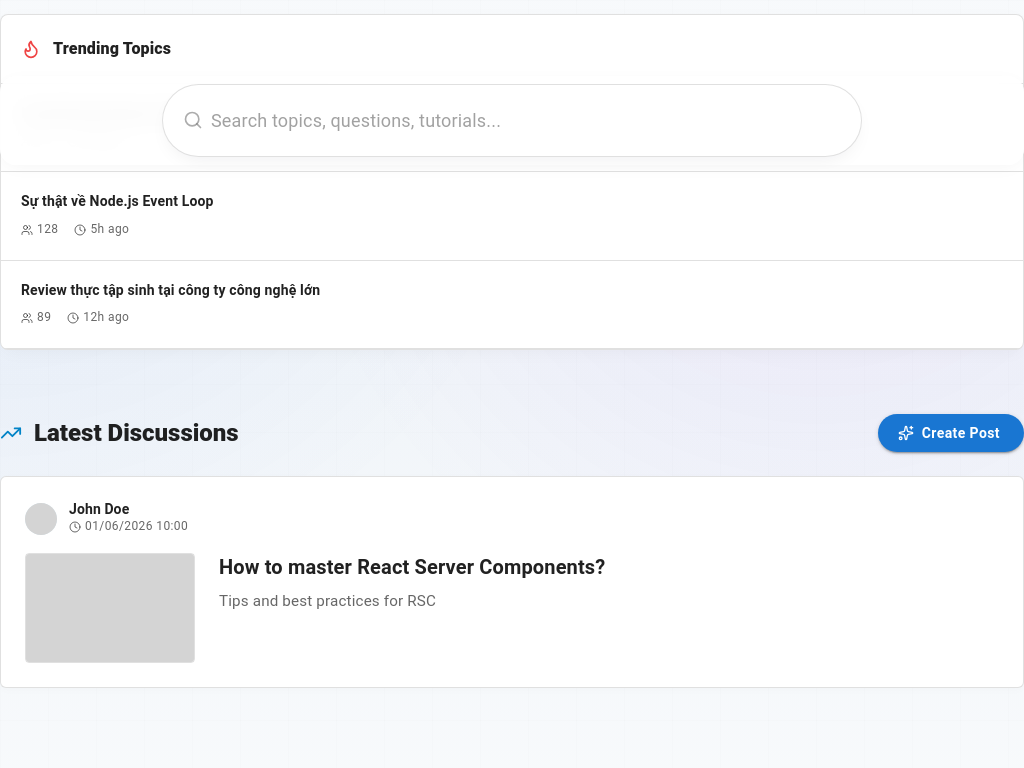
it: ForumPage › shouldRenderHeroDiscussionsFeedAndOpenCreatePostModal
The image size is (1024, 768).
(page scrolled)
Expected: the heading "How to master React Server Components?" is shown, [219, 555, 605, 579]
Click the button "Create Post".
click(951, 433)  # box [878, 414, 1023, 452]
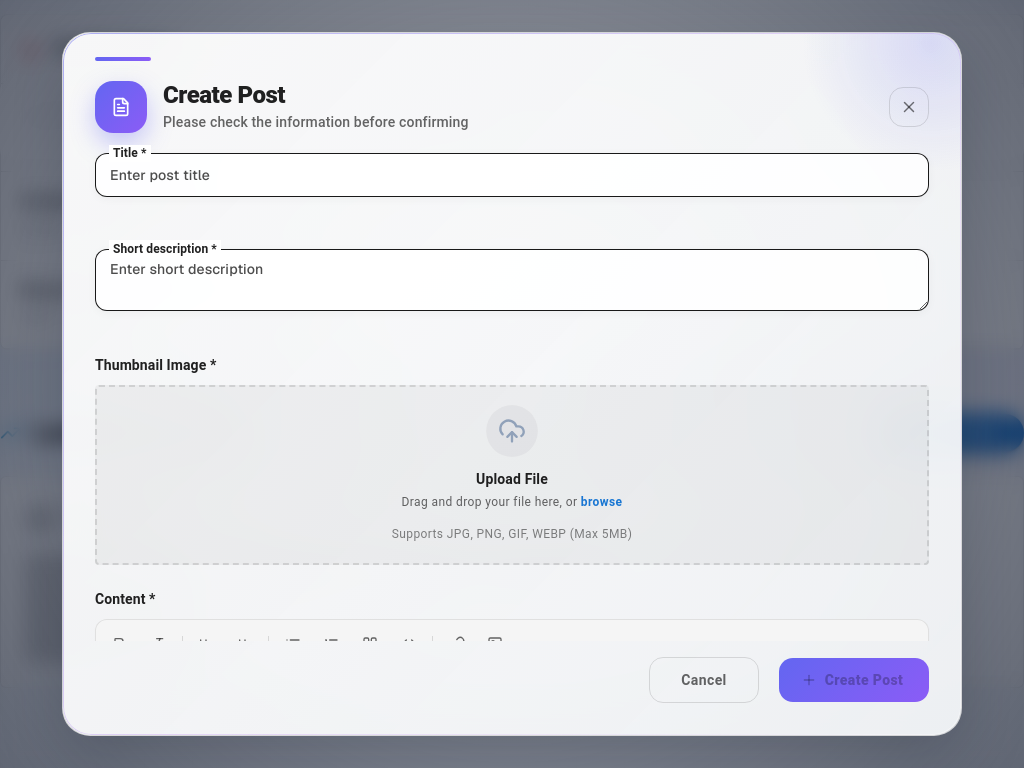
Now the heading "Create Post" is shown, box [163, 81, 285, 109]
